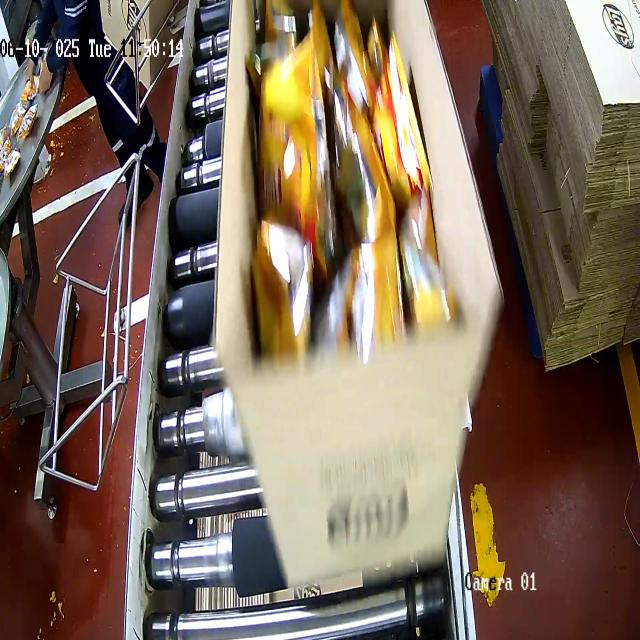FRENCH_CHEESE: (255, 0, 437, 353)
